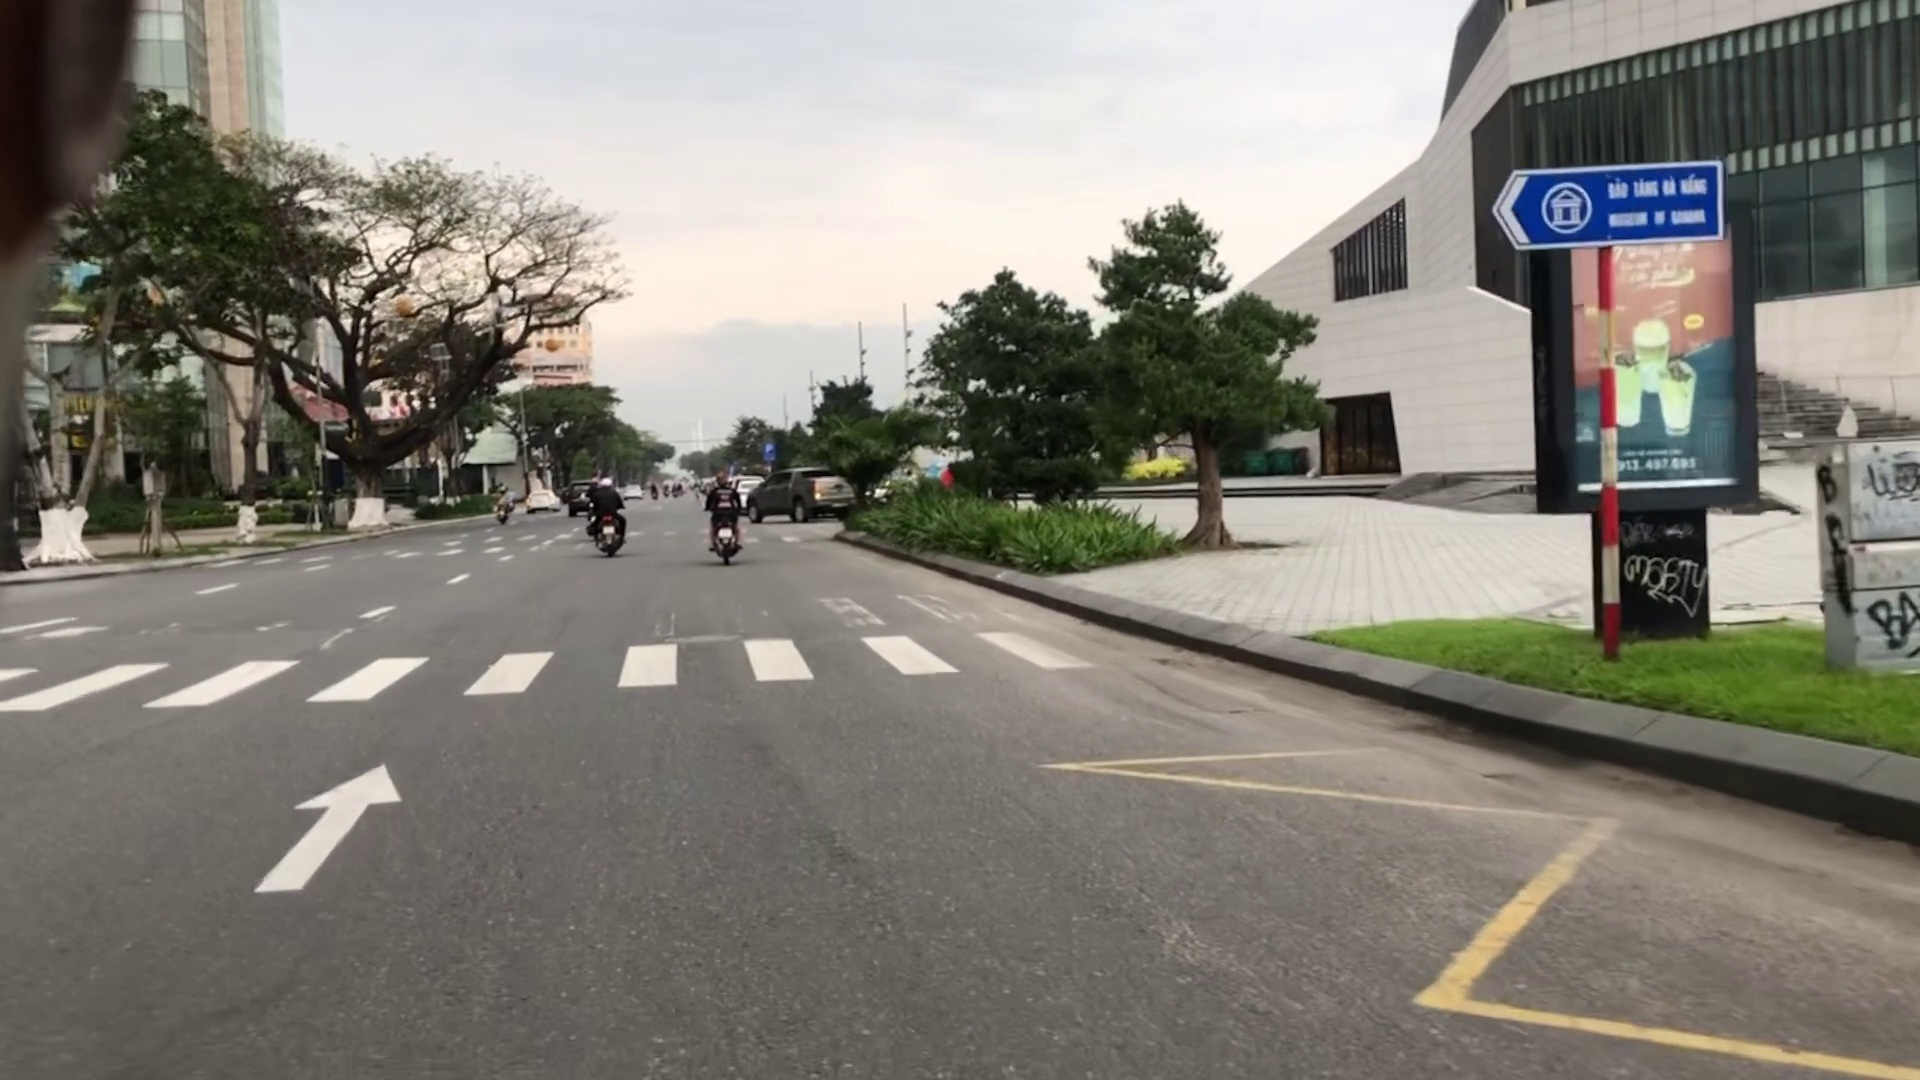Bien khac: (760, 436, 775, 465)
